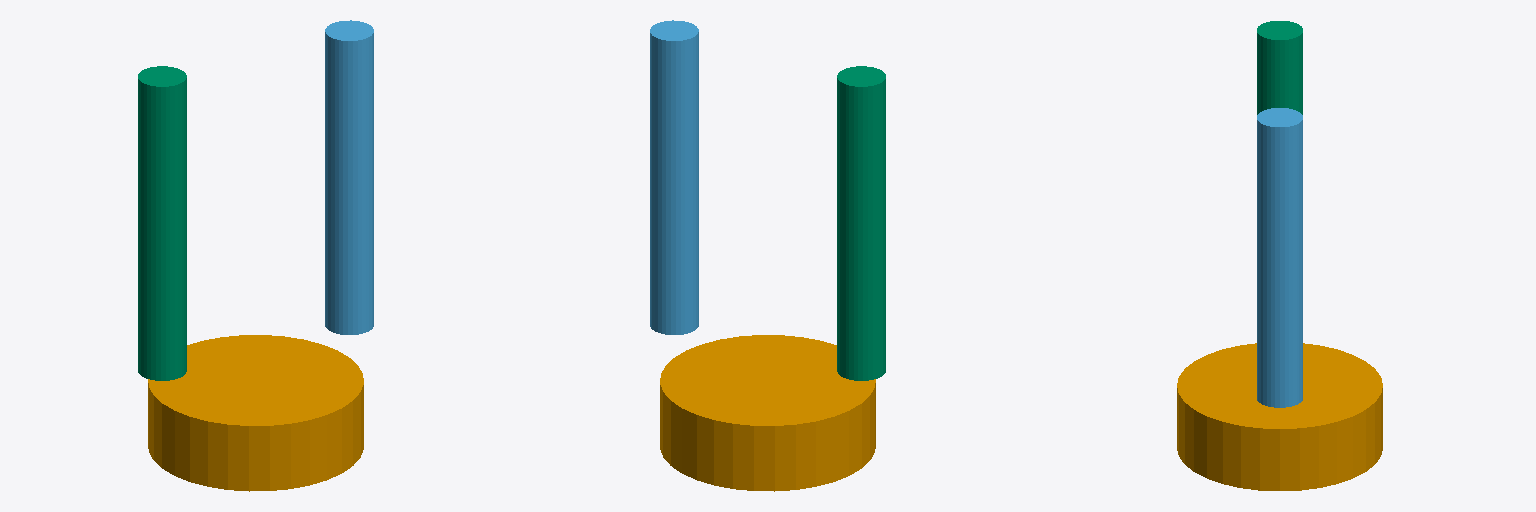
URDF robot description (Pinch_Gripper_-_Wet_-_Rigid_Objects):
<?xml version="1.0"?>
<robot name="Pinch_Gripper_-_Wet_-_Rigid_Objects">

    <link name="palm_link">
        <visual>
            <geometry>
                <cylinder radius="0.0150" length="0.0100"/>
            </geometry>
        </visual>
        <collision>
            <geometry>
                <cylinder radius="0.0150" length="0.0100"/>
            </geometry>
        </collision>
    </link>

    
    <link name="finger_0_link">
        <visual>
            <geometry>
                <cylinder radius="0.0034" length="0.0450"/>
            </geometry>
            <origin xyz="0 0 0.0225"/>
        </visual>
        <collision>
            <geometry>
                <cylinder radius="0.0034" length="0.0450"/>
            </geometry>
            <origin xyz="0 0 0.0225"/>
        </collision>
    </link>

    <joint name="finger_0_joint" type="revolute">
        <parent link="palm_link"/>
        <child link="finger_0_link"/>
        <origin xyz="0.0150 0.0000 0.0100" rpy="0 0 0.0000"/>
        <axis xyz="0 1 0"/>
        <limit lower="-1.57" upper="1.57" effort="10" velocity="1"/>
    </joint>

    <link name="finger_1_link">
        <visual>
            <geometry>
                <cylinder radius="0.0034" length="0.0450"/>
            </geometry>
            <origin xyz="0 0 0.0225"/>
        </visual>
        <collision>
            <geometry>
                <cylinder radius="0.0034" length="0.0450"/>
            </geometry>
            <origin xyz="0 0 0.0225"/>
        </collision>
    </link>

    <joint name="finger_1_joint" type="revolute">
        <parent link="palm_link"/>
        <child link="finger_1_link"/>
        <origin xyz="-0.0150 0.0000 0.0100" rpy="0 0 3.1416"/>
        <axis xyz="0 1 0"/>
        <limit lower="-1.57" upper="1.57" effort="10" velocity="1"/>
    </joint>

</robot>

--- Render facts (derived) ---
3 views of the same robot in one strip: view 1: azimuth 30°, elevation 25°; view 2: azimuth 150°, elevation 25°; view 3: azimuth 270°, elevation 25° (orthographic).
Robot: Pinch_Gripper_-_Wet_-_Rigid_Objects — 3 links, 2 joints (2 revolute); root link palm_link; default pose: every joint at zero.
Links seen in each view (by area): view 1: palm_link, finger_1_link, finger_0_link; view 2: palm_link, finger_1_link, finger_0_link; view 3: palm_link, finger_0_link, finger_1_link.
Link boxes in pixels (x1,y1,x2,y2): palm_link: (148,335,363,491); finger_1_link: (138,66,186,380); finger_0_link: (325,20,373,334); palm_link: (660,335,875,491); finger_1_link: (837,66,885,380); finger_0_link: (650,20,698,334); palm_link: (1177,343,1382,490); finger_0_link: (1257,108,1302,407); finger_1_link: (1257,21,1302,114).
Size in the robot's own frame: 0.0368 by 0.03 by 0.06 metres.
Geometry: primitives only (box / cylinder / sphere), no mesh files.
